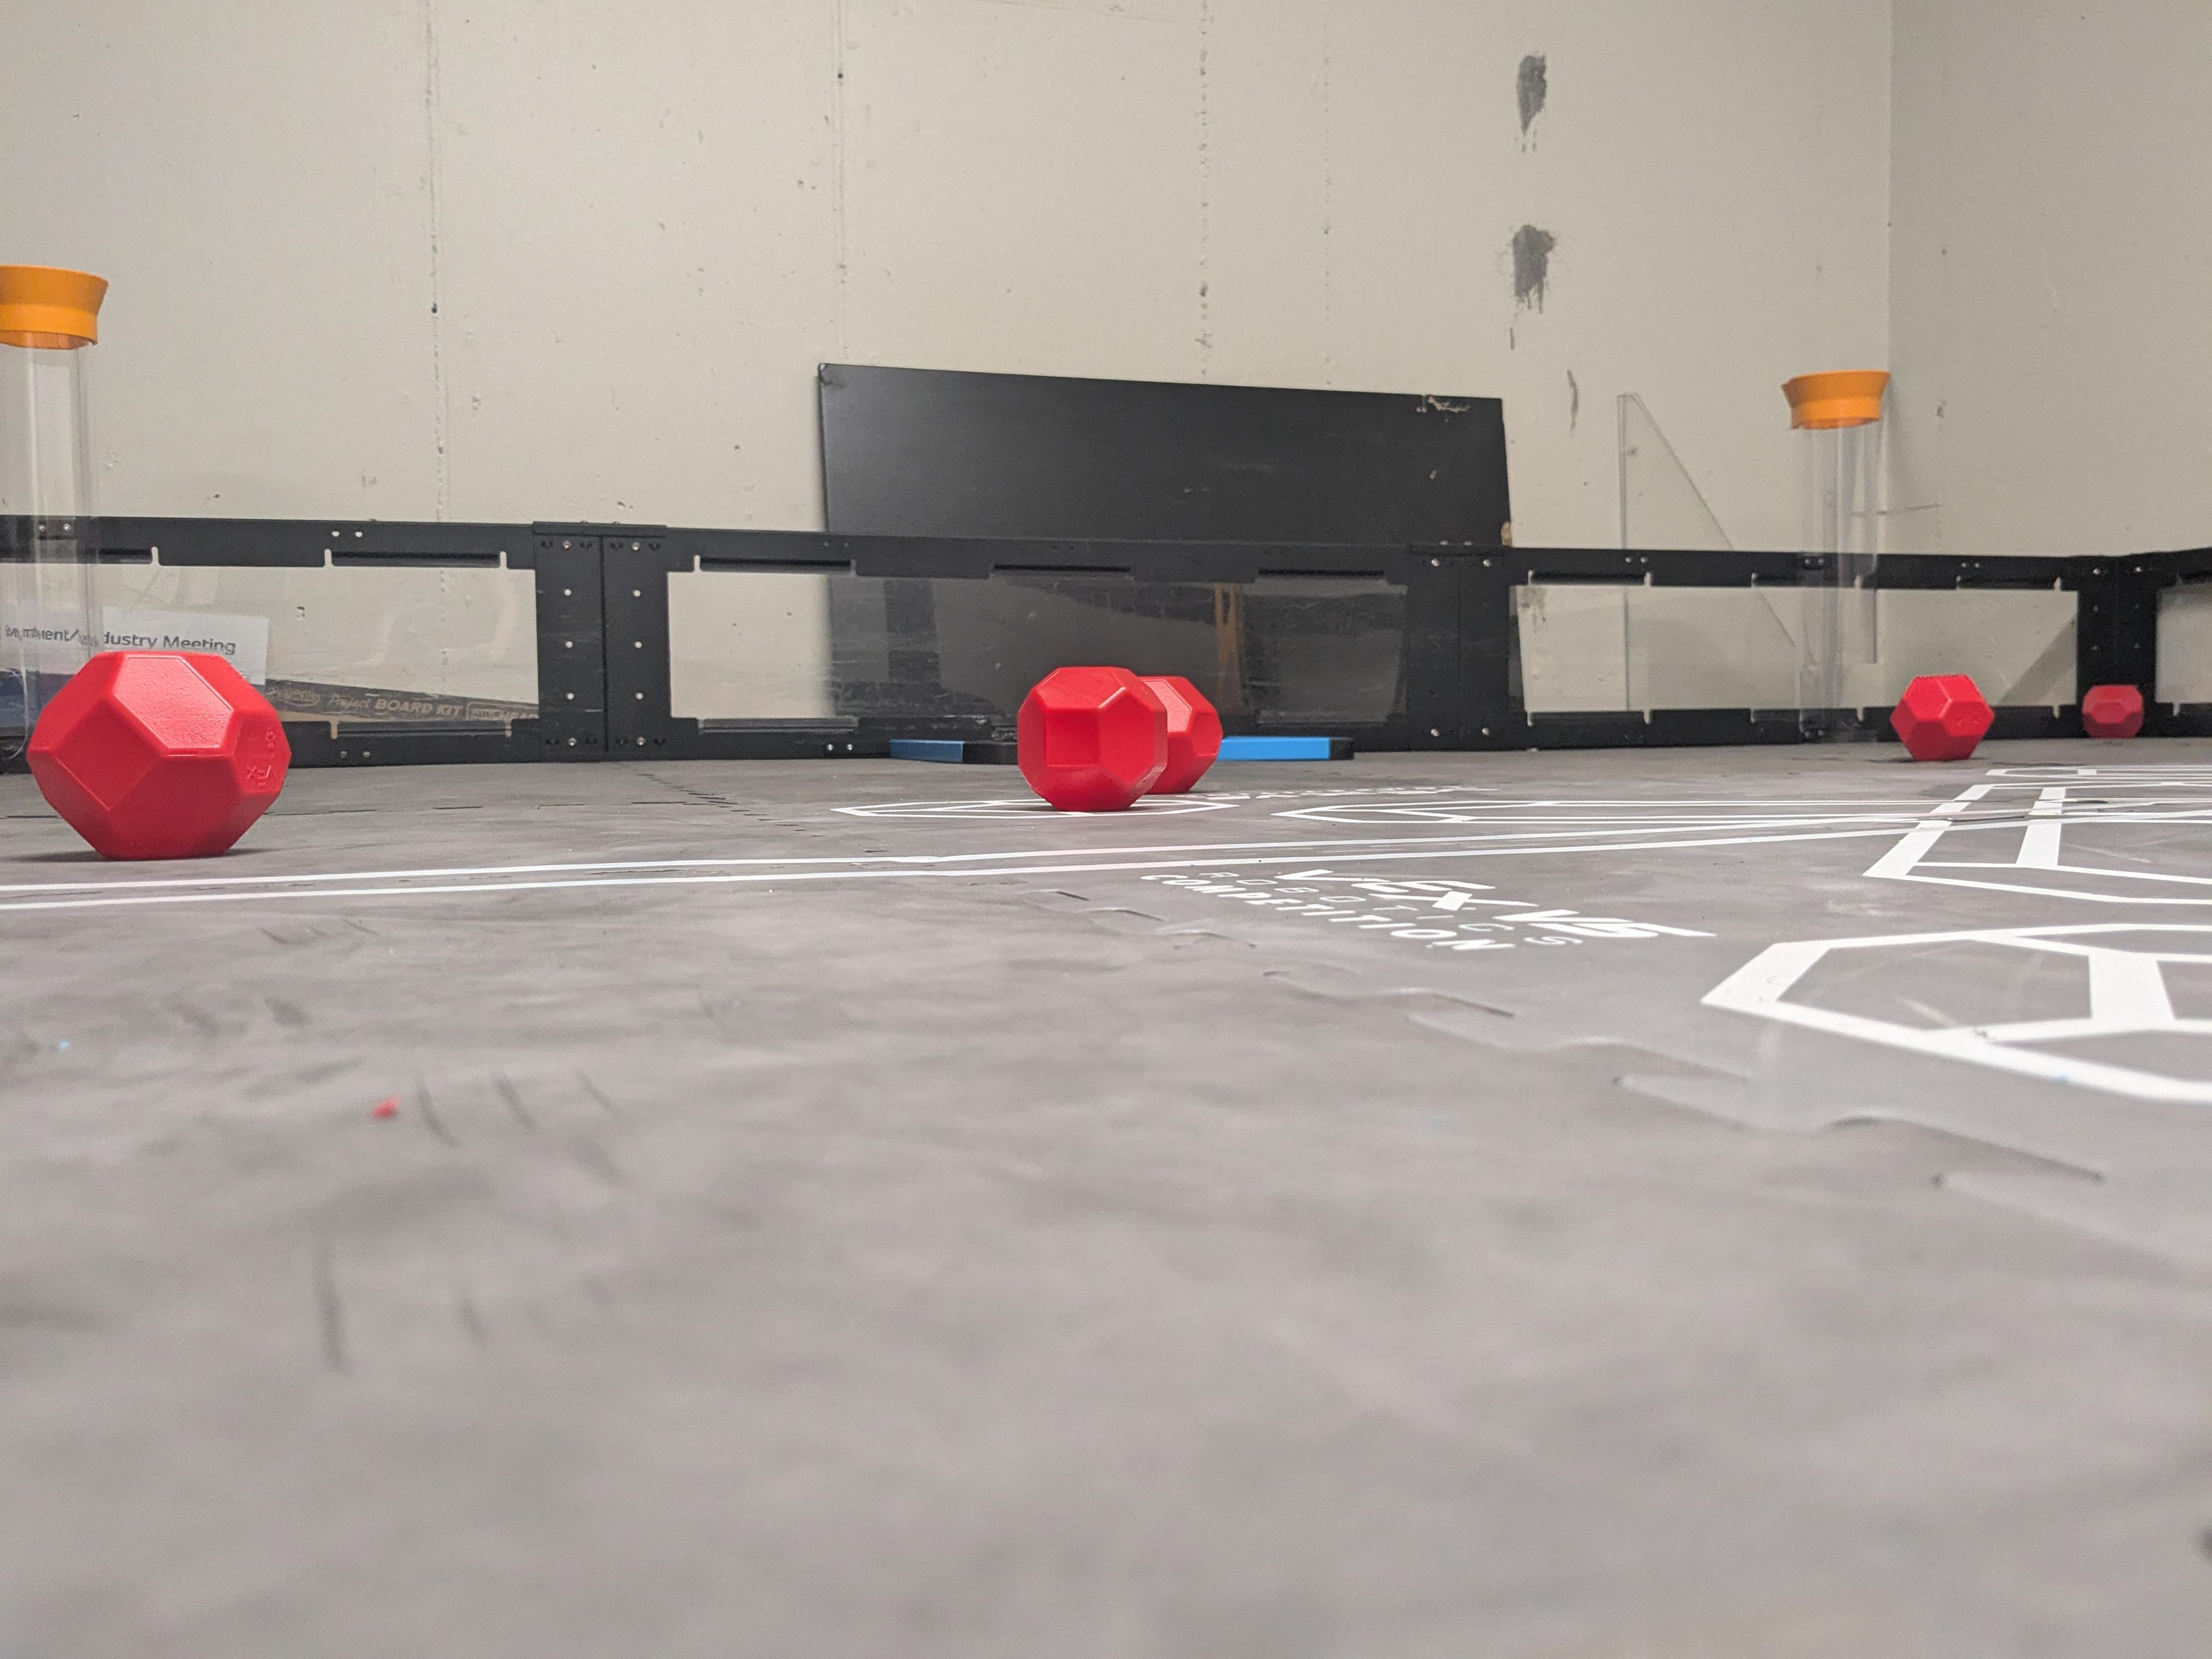Vex-Pieces-RED: (31, 653, 289, 854), (1019, 669, 1216, 805), (1890, 674, 1994, 762), (2081, 683, 2144, 737)
